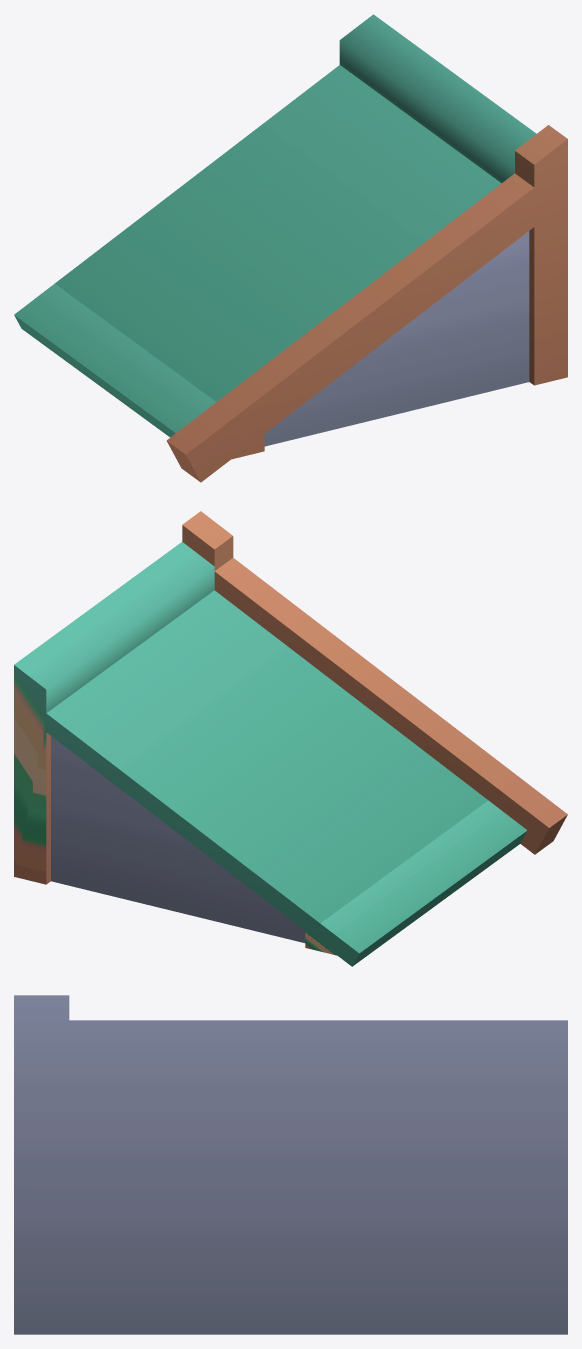
Rendered from roof-right.glb.
3 renders of one model, top to bottom at view 1: azimuth 30°, elevation 25°; view 2: azimuth 150°, elevation 25°; view 3: azimuth 270°, elevation 25°, orthographic. The views are drawn at different scales.
Parts seen in each view (by area): view 1: roof-right; view 2: roof-right; view 3: roof-right.
Part boxes in pixels (<box>): roof-right: <box>14,14,567,482</box>; roof-right: <box>14,511,567,966</box>; roof-right: <box>14,995,567,1334</box>.
Bounding box in the file's own units: 1.13 × 0.7206 × 1.
1 material, 1 textured.
